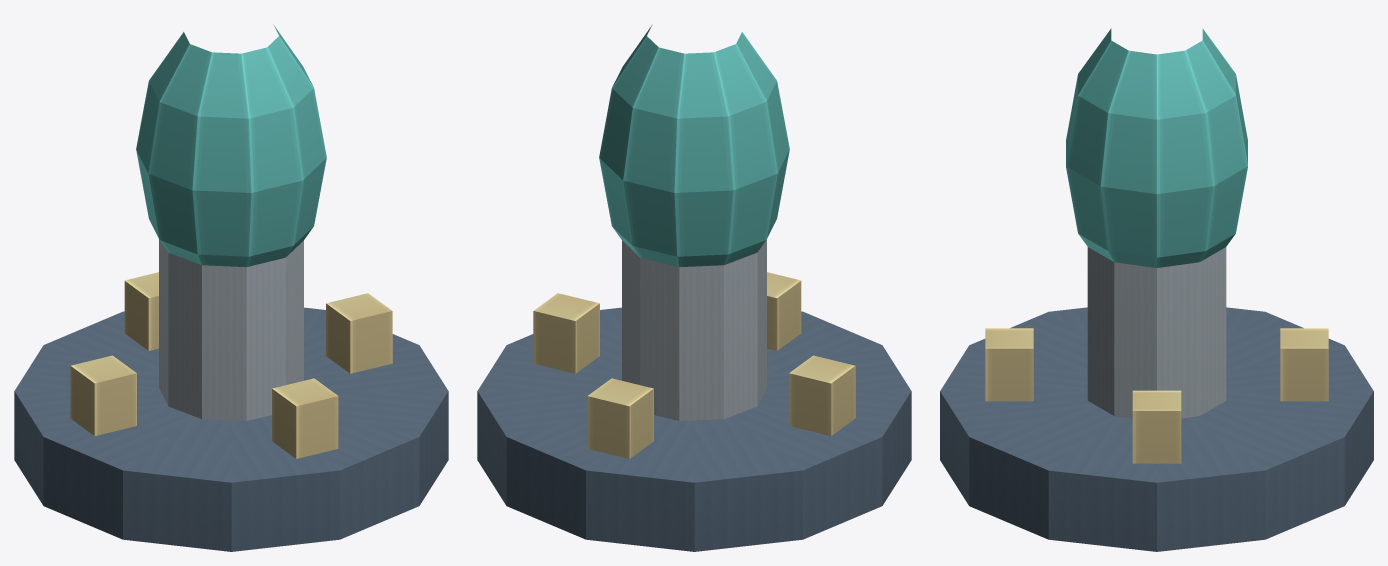
The model's file is hazard_spinner.glb.
3 views of the same model, side by side, from view 1: azimuth 30°, elevation 25°; view 2: azimuth 150°, elevation 25°; view 3: azimuth 270°, elevation 25° (orthographic).
Parts seen in each view (by area): view 1: hazard_spinner; view 2: hazard_spinner; view 3: hazard_spinner.
Boxes of the visible parts, bbox=[...] form: hazard_spinner: bbox=[14, 24, 448, 551]; hazard_spinner: bbox=[477, 24, 911, 551]; hazard_spinner: bbox=[940, 28, 1373, 551].
Bounding box in the file's own units: 2.5 × 2.83 × 2.5.
Materials: 1 (1 with a texture image).
